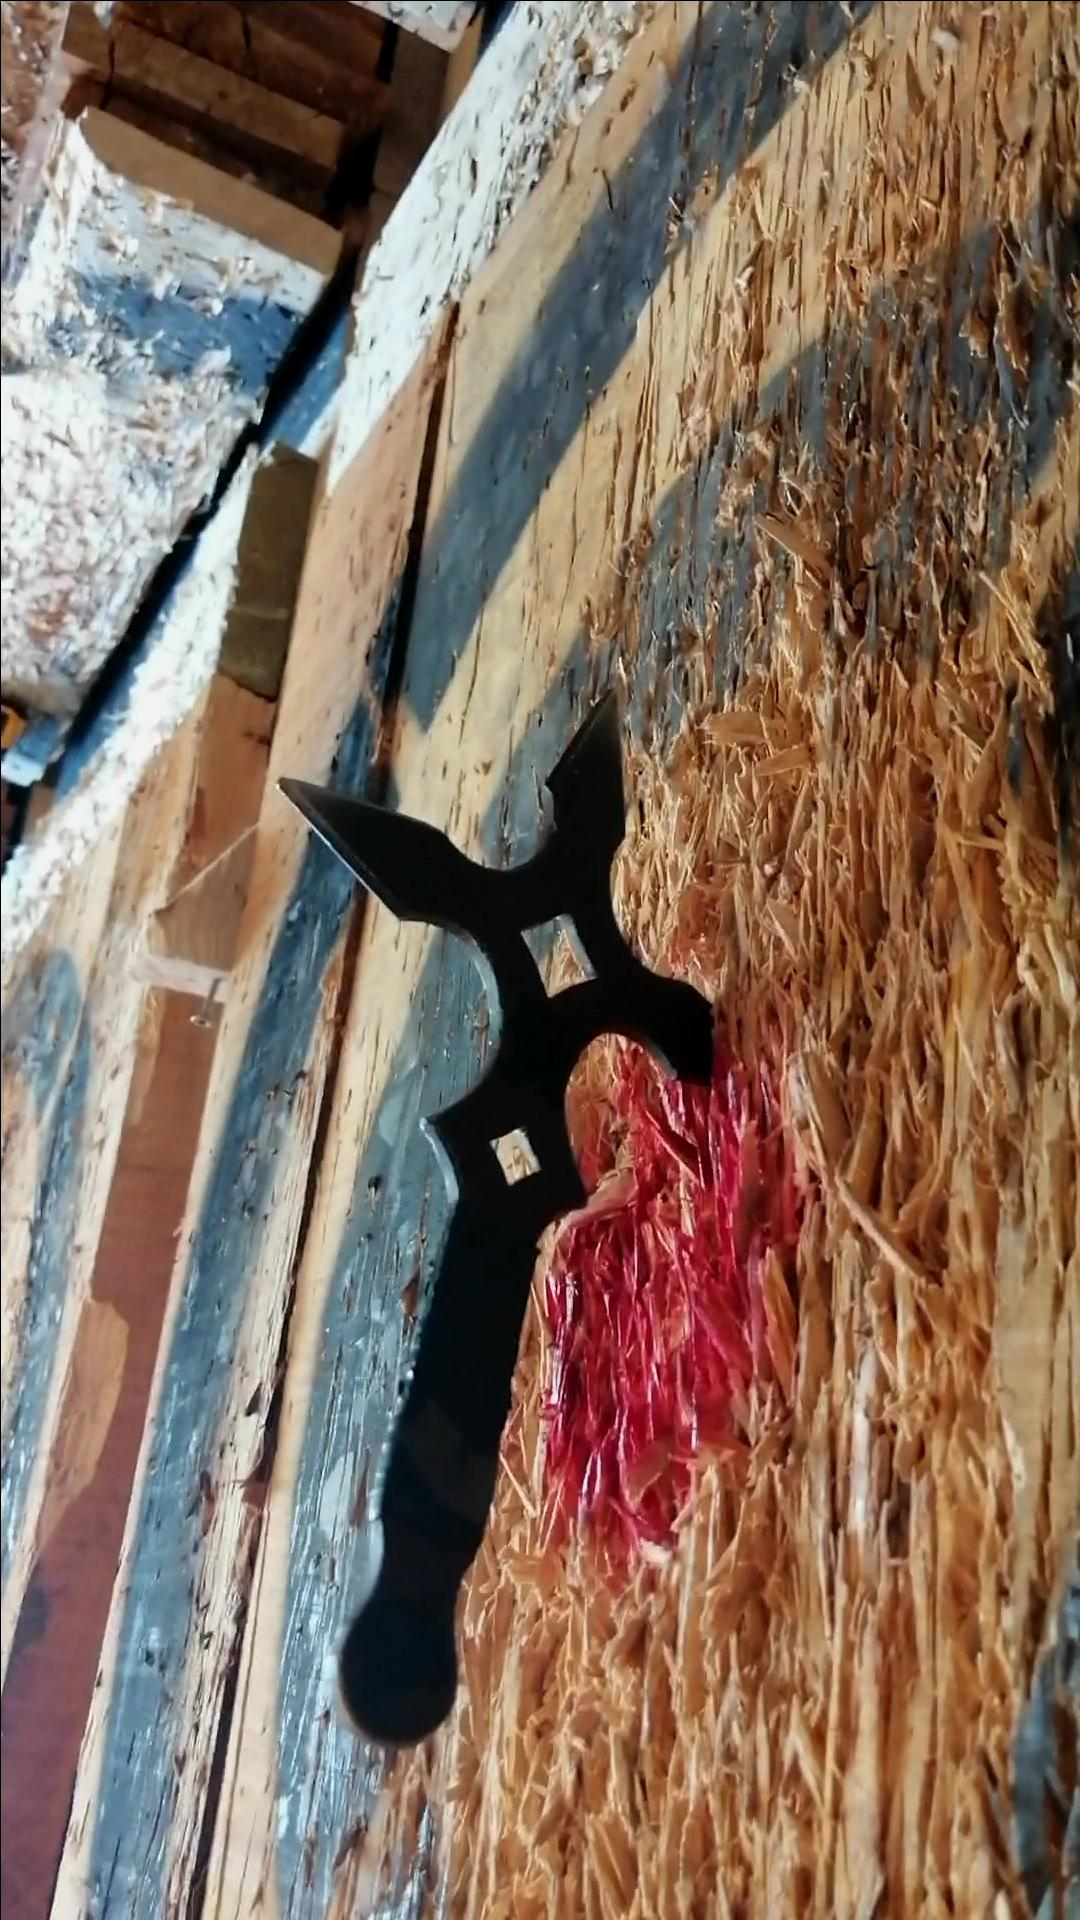Hand Axe: (262, 675, 731, 1755)
